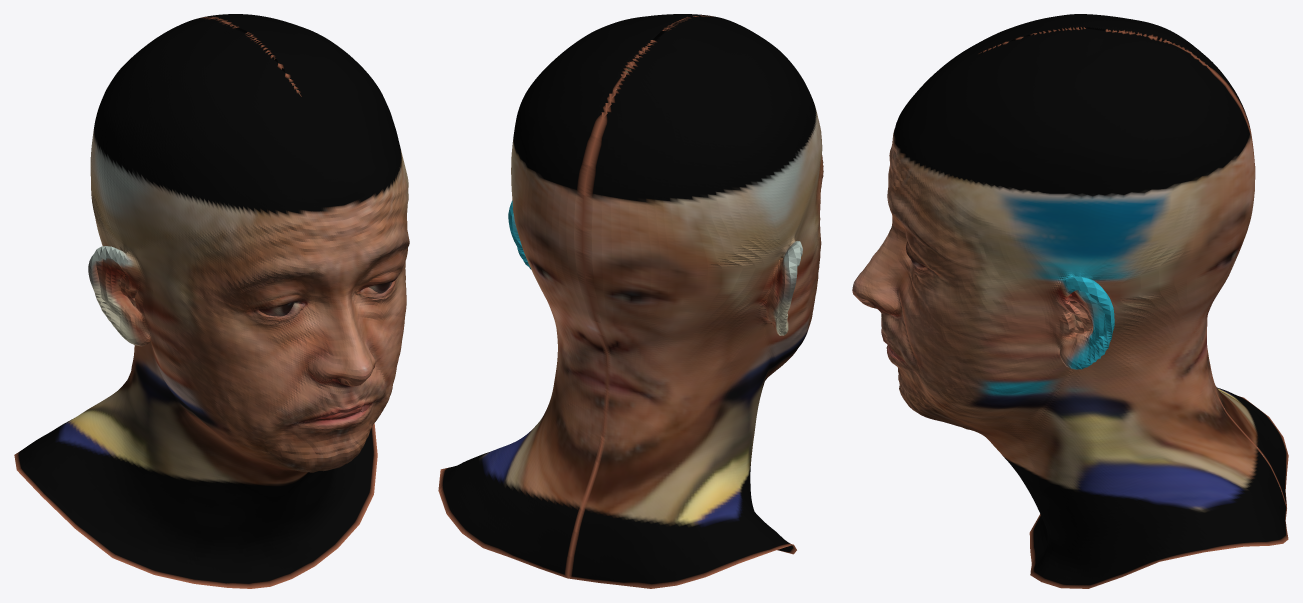
Rendered from mesh_coarse_detail.obj.
3 views of the same model, side by side, from view 1: azimuth 30°, elevation 25°; view 2: azimuth 150°, elevation 25°; view 3: azimuth 270°, elevation 25° (orthographic).
Bounding box in the file's own units: 0.2143 × 0.3241 × 0.2385.
